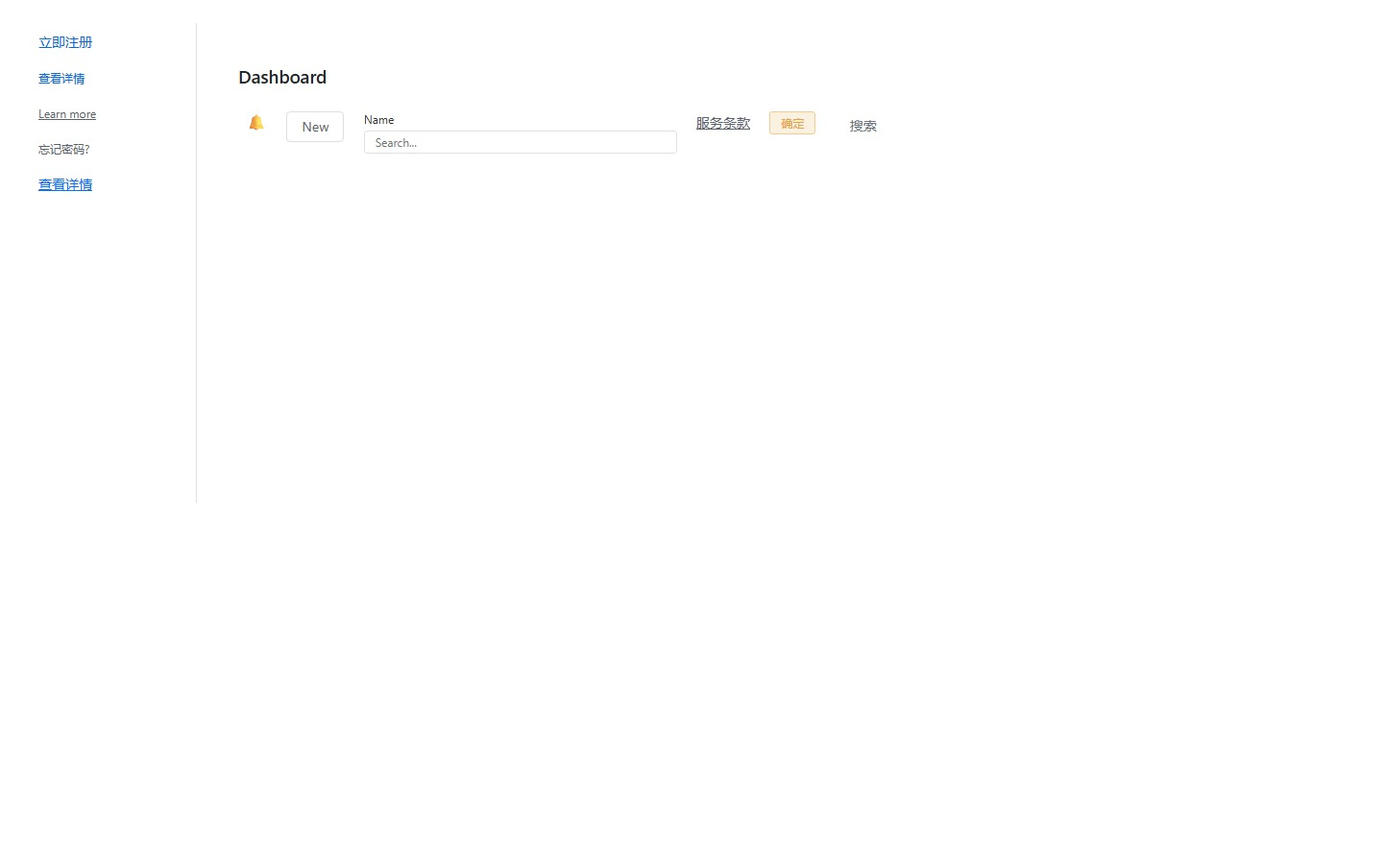button: (287, 111, 344, 142), (835, 111, 891, 140), (770, 111, 816, 134)
icon: (246, 114, 267, 129)
input: (364, 130, 677, 153)
link: (38, 33, 92, 51), (38, 175, 92, 193), (696, 113, 750, 131), (38, 106, 96, 121), (38, 141, 90, 156), (38, 70, 85, 85)
